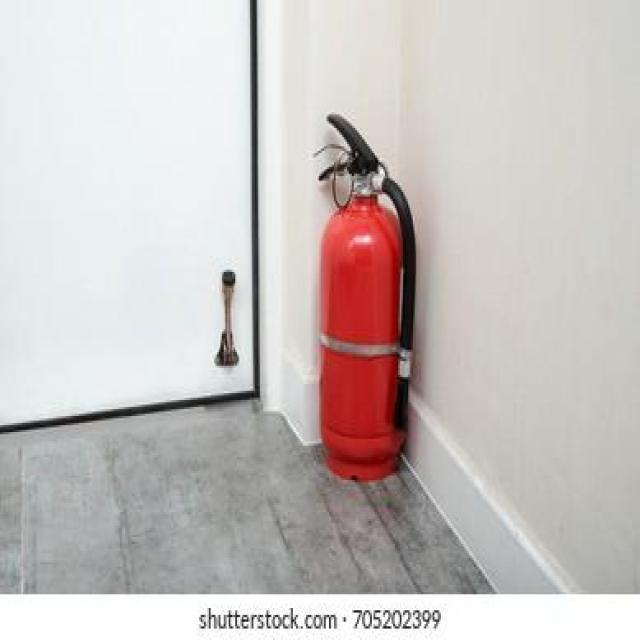FireExtinguisher: (311, 104, 421, 481)
